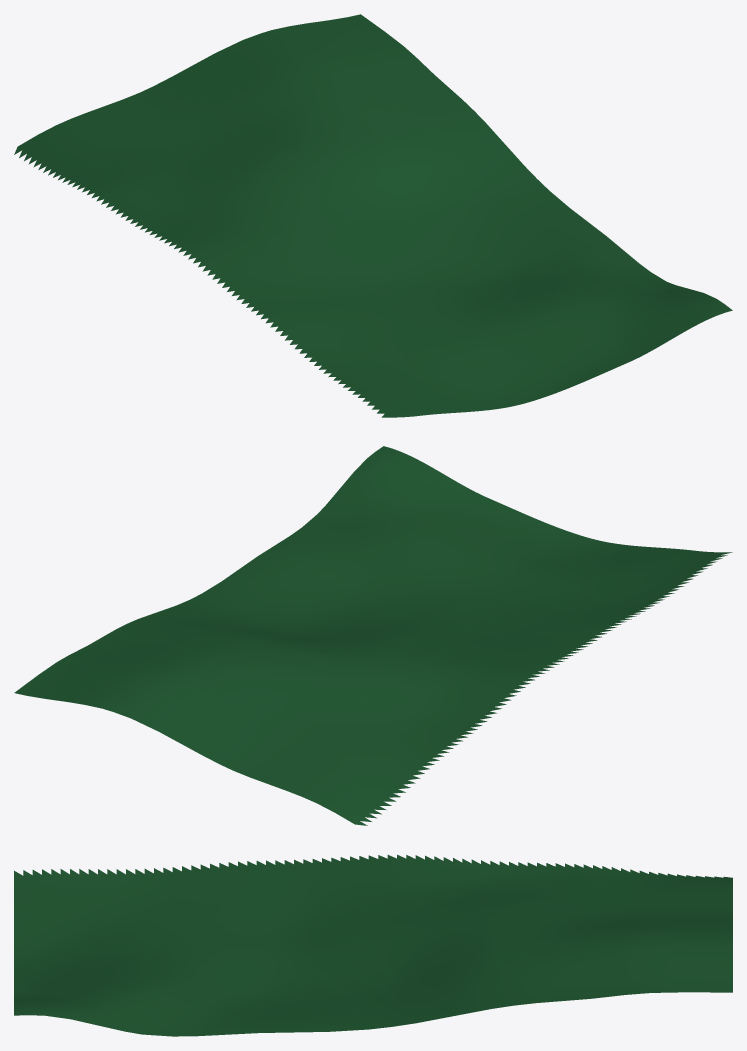
File: payo_land_xm5_ym4.glb
The picture shows the model from 3 angles, top to bottom: view 1: azimuth 30°, elevation 25°; view 2: azimuth 150°, elevation 25°; view 3: azimuth 270°, elevation 25°; orthographic projection. The views are drawn at different scales.
Parts seen in each view (by area): view 1: payo_land_xm5_ym4; view 2: payo_land_xm5_ym4; view 3: payo_land_xm5_ym4.
Boxes of the visible parts, <box> form: payo_land_xm5_ym4: <box>14,14,732,417</box>; payo_land_xm5_ym4: <box>14,446,732,825</box>; payo_land_xm5_ym4: <box>14,854,732,1036</box>.
Size of the model in its own units: 126 by 25.03 by 231.
